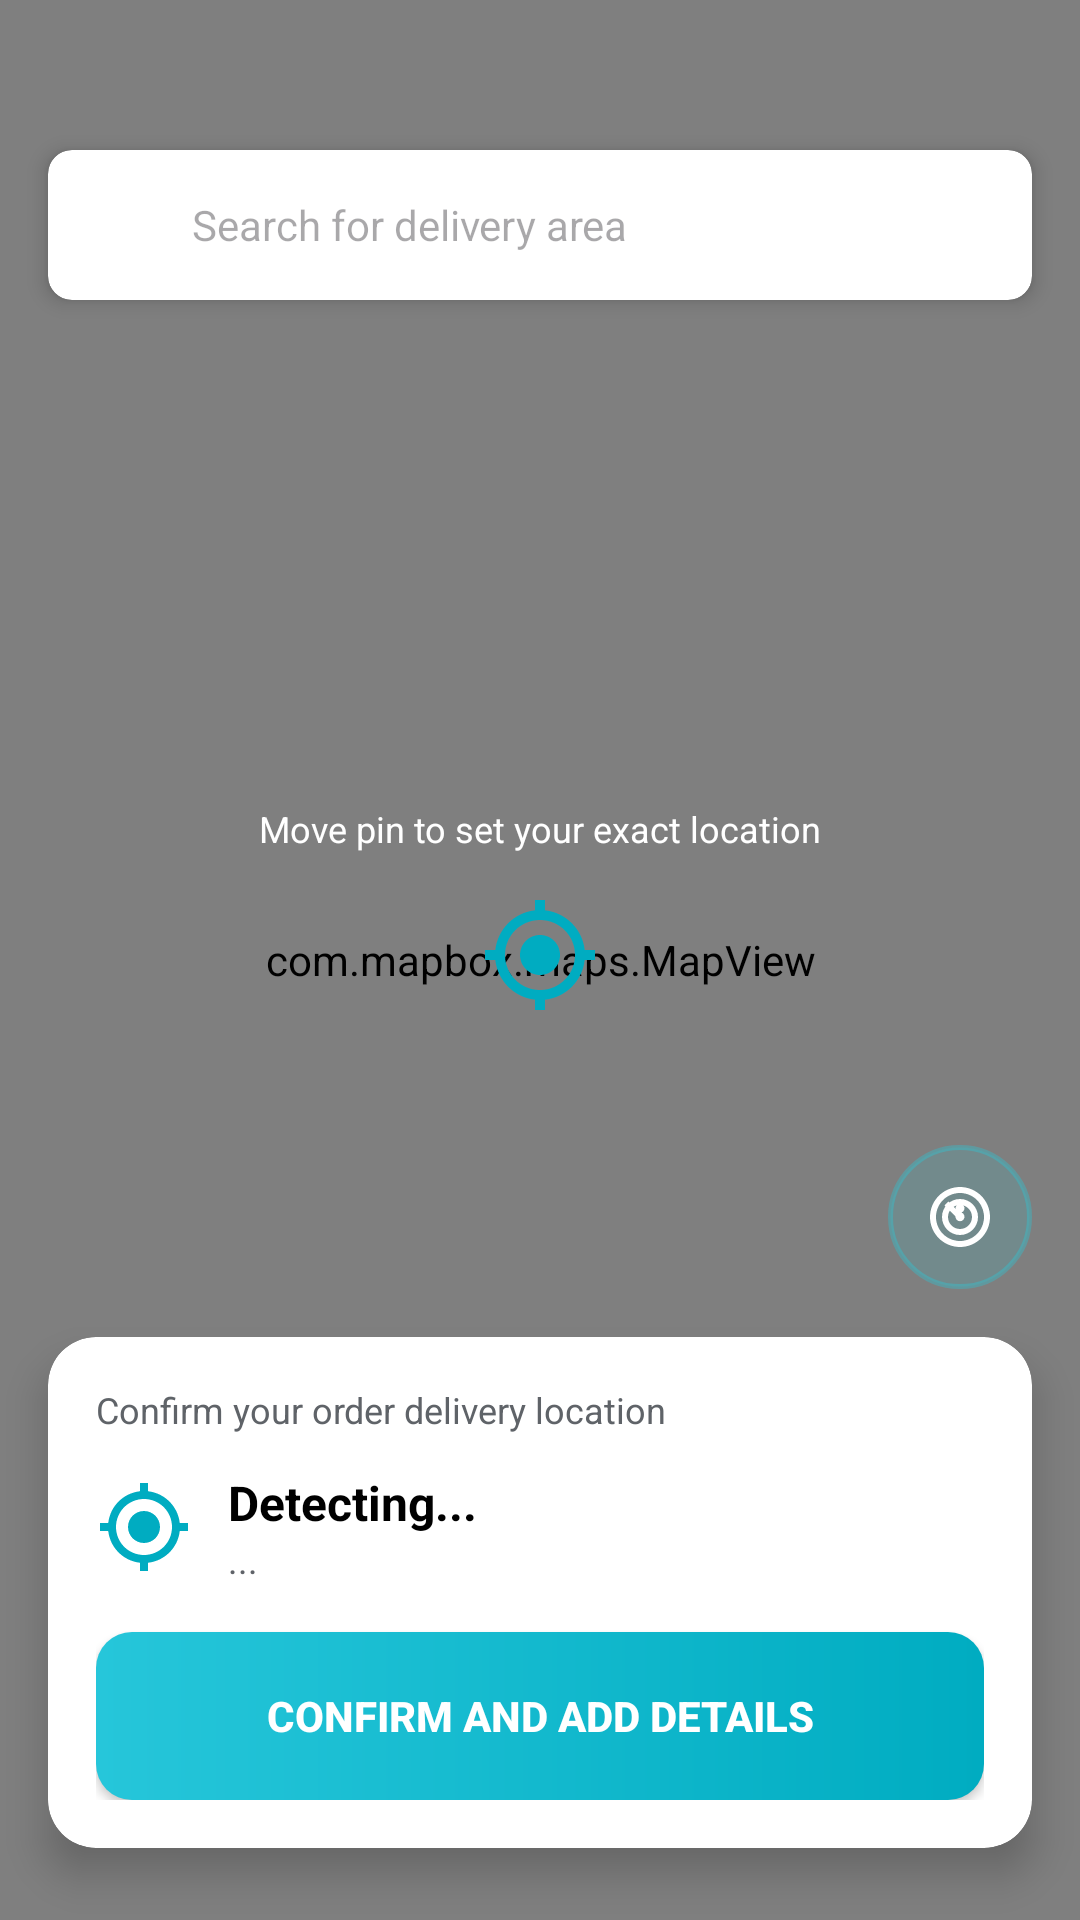

Locate icon controls on the screen. Image size 1080*1920, boxes as [x1, y1, x2, y2].
radar circle: [888, 1145, 1032, 1289]
